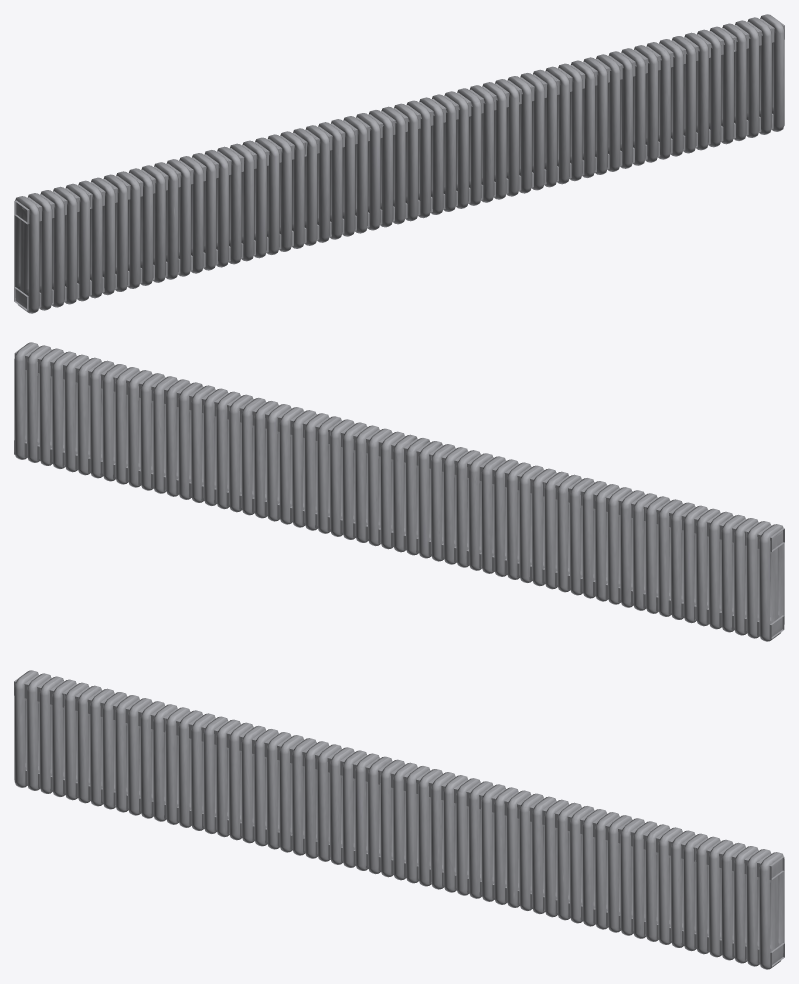
File: LinhHeater1.fbx
3 views of the same model, one above another, from view 1: azimuth 30°, elevation 25°; view 2: azimuth 150°, elevation 25°; view 3: azimuth 330°, elevation 25° (orthographic).
Visible parts, largest first — view 1: Cube.003; view 2: Cube.003; view 3: Cube.003.
Part boxes in pixels (x1,y1,x2,y2): Cube.003: (14,14,784,313); Cube.003: (14,342,784,641); Cube.003: (14,670,784,969).
Size of the model in its own units: 392 by 53.22 by 17.76.
1 material, 1 textured.
